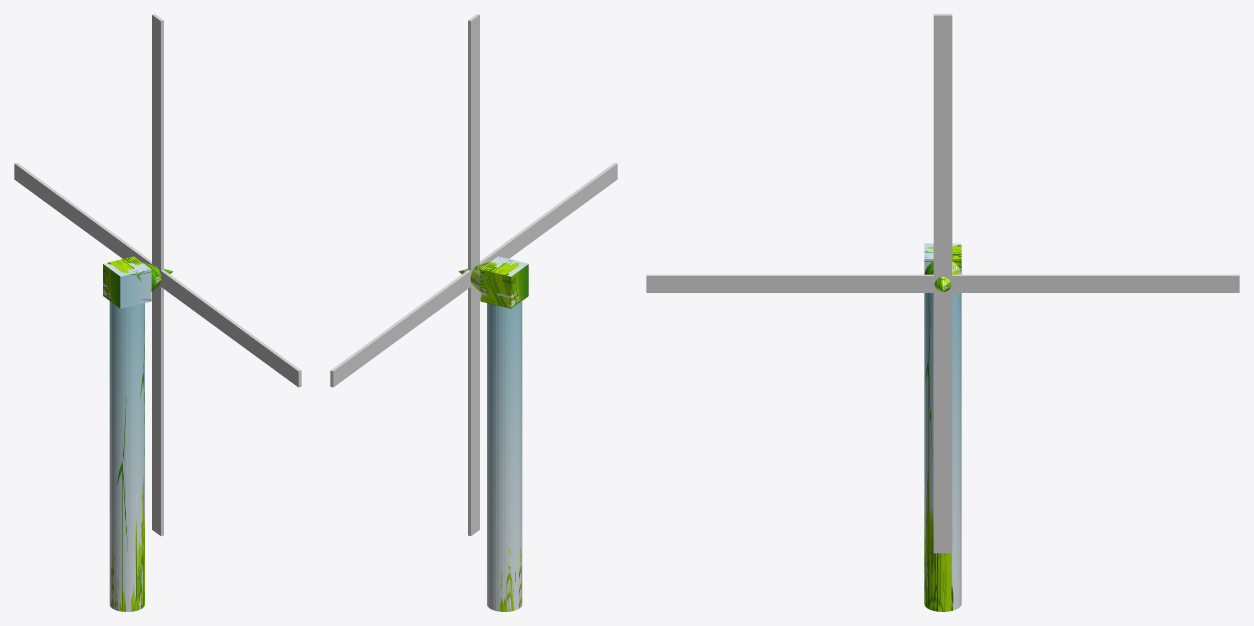
File: windmill.gltf
3 renders of one model, left to right at view 1: azimuth 30°, elevation 25°; view 2: azimuth 150°, elevation 25°; view 3: azimuth 270°, elevation 25°, orthographic. The views are drawn at different scales.
Parts seen in each view (by area): view 1: Cube.001, Cylinder, Cube; view 2: Cube.001, Cylinder, Cube; view 3: Cube.001, Cylinder.
Boxes of the visible parts, left/top/right/bottom form: Cube.001: left=14, top=14, right=301, bottom=535; Cylinder: left=109, top=301, right=144, bottom=611; Cube: left=103, top=256, right=151, bottom=308; Cube.001: left=330, top=14, right=617, bottom=535; Cylinder: left=487, top=301, right=522, bottom=611; Cube: left=480, top=256, right=528, bottom=308; Cube.001: left=646, top=14, right=1239, bottom=553; Cylinder: left=924, top=293, right=961, bottom=611.
Size of the model in its own units: 4 by 36 by 32.
1 material, 1 textured.
